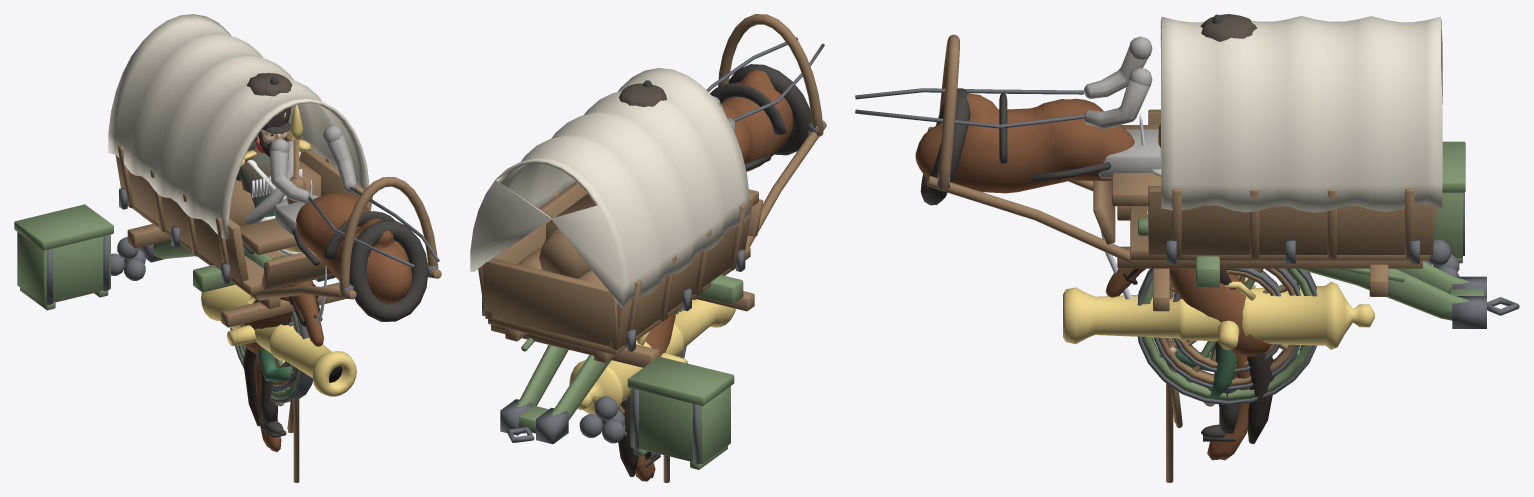
The model's file is Caucasus_Sculpted_Army_Pack.glb.
3 views of the same model, side by side, from view 1: azimuth 30°, elevation 25°; view 2: azimuth 150°, elevation 25°; view 3: azimuth 270°, elevation 25° (orthographic). The views are drawn at different scales.
Visible parts, largest first — view 1: WagonCanvasTilt, WagonWood, AmmoChestWood, DraftHorseBody, CannonBarrelBronze, DraftHorseCollar, WagonCoachmanArms, AmmoChestIron, DraftHorseNeckHead, WagonIron, CannonCarriageWood, WagonCargo (+9 smaller); view 2: WagonCanvasTilt, WagonWood, AmmoChestWood, CannonCarriageWood, CannonBarrelBronze, DraftHorseBody, DraftHorseCollar, WagonCargo, AmmoChestIron, CannonCarriageIron, WagonIron, MuridPapakha (+2 smaller); view 3: WagonCanvasTilt, WagonWood, CannonBarrelBronze, DraftHorseBody, WagonCoachmanArms, CannonCarriageWood, DraftHorseNeckHead, DraftHorseCollar, WagonIron, CannonWheelWood, AmmoChestWood, CannonCarriageIron (+12 smaller).
Part boxes in pixels (x1,y1,x2,y2): WagonCanvasTilt: [108, 14, 369, 238]; WagonWood: [115, 132, 441, 327]; AmmoChestWood: [14, 204, 113, 310]; DraftHorseBody: [296, 193, 411, 303]; CannonBarrelBronze: [201, 284, 356, 396]; DraftHorseCollar: [292, 211, 428, 321]; WagonCoachmanArms: [269, 125, 356, 239]; AmmoChestIron: [47, 234, 145, 304]; DraftHorseNeckHead: [244, 252, 323, 353]; WagonIron: [119, 187, 439, 297]; CannonCarriageWood: [153, 240, 286, 292]; WagonCargo: [229, 160, 320, 226]; WagonCanvasTilt: [470, 68, 749, 308]; WagonWood: [478, 14, 826, 367]; AmmoChestWood: [627, 356, 734, 469]; CannonCarriageWood: [516, 275, 743, 433]; CannonBarrelBronze: [569, 299, 735, 415]; DraftHorseBody: [721, 69, 792, 171]; DraftHorseCollar: [710, 64, 811, 170]; WagonCargo: [518, 193, 603, 284]; AmmoChestIron: [579, 389, 699, 464]; CannonCarriageIron: [500, 399, 568, 444]; WagonIron: [482, 37, 824, 351]; MuridPapakha: [619, 83, 666, 106]; WagonCanvasTilt: [1160, 16, 1442, 212]; WagonWood: [926, 34, 1437, 311]; CannonBarrelBronze: [1063, 275, 1374, 350]; DraftHorseBody: [915, 93, 1134, 193]; WagonCoachmanArms: [1084, 36, 1160, 178]; CannonCarriageWood: [1138, 218, 1484, 320]; DraftHorseNeckHead: [1105, 268, 1271, 356]; DraftHorseCollar: [920, 88, 1111, 205]; WagonIron: [855, 88, 1419, 263]; CannonWheelWood: [1142, 268, 1312, 401]; AmmoChestWood: [1434, 141, 1465, 263]; CannonCarriageIron: [1452, 276, 1519, 328].
Bounding box in the file's own units: 1.26 × 1.98 × 2.57.
